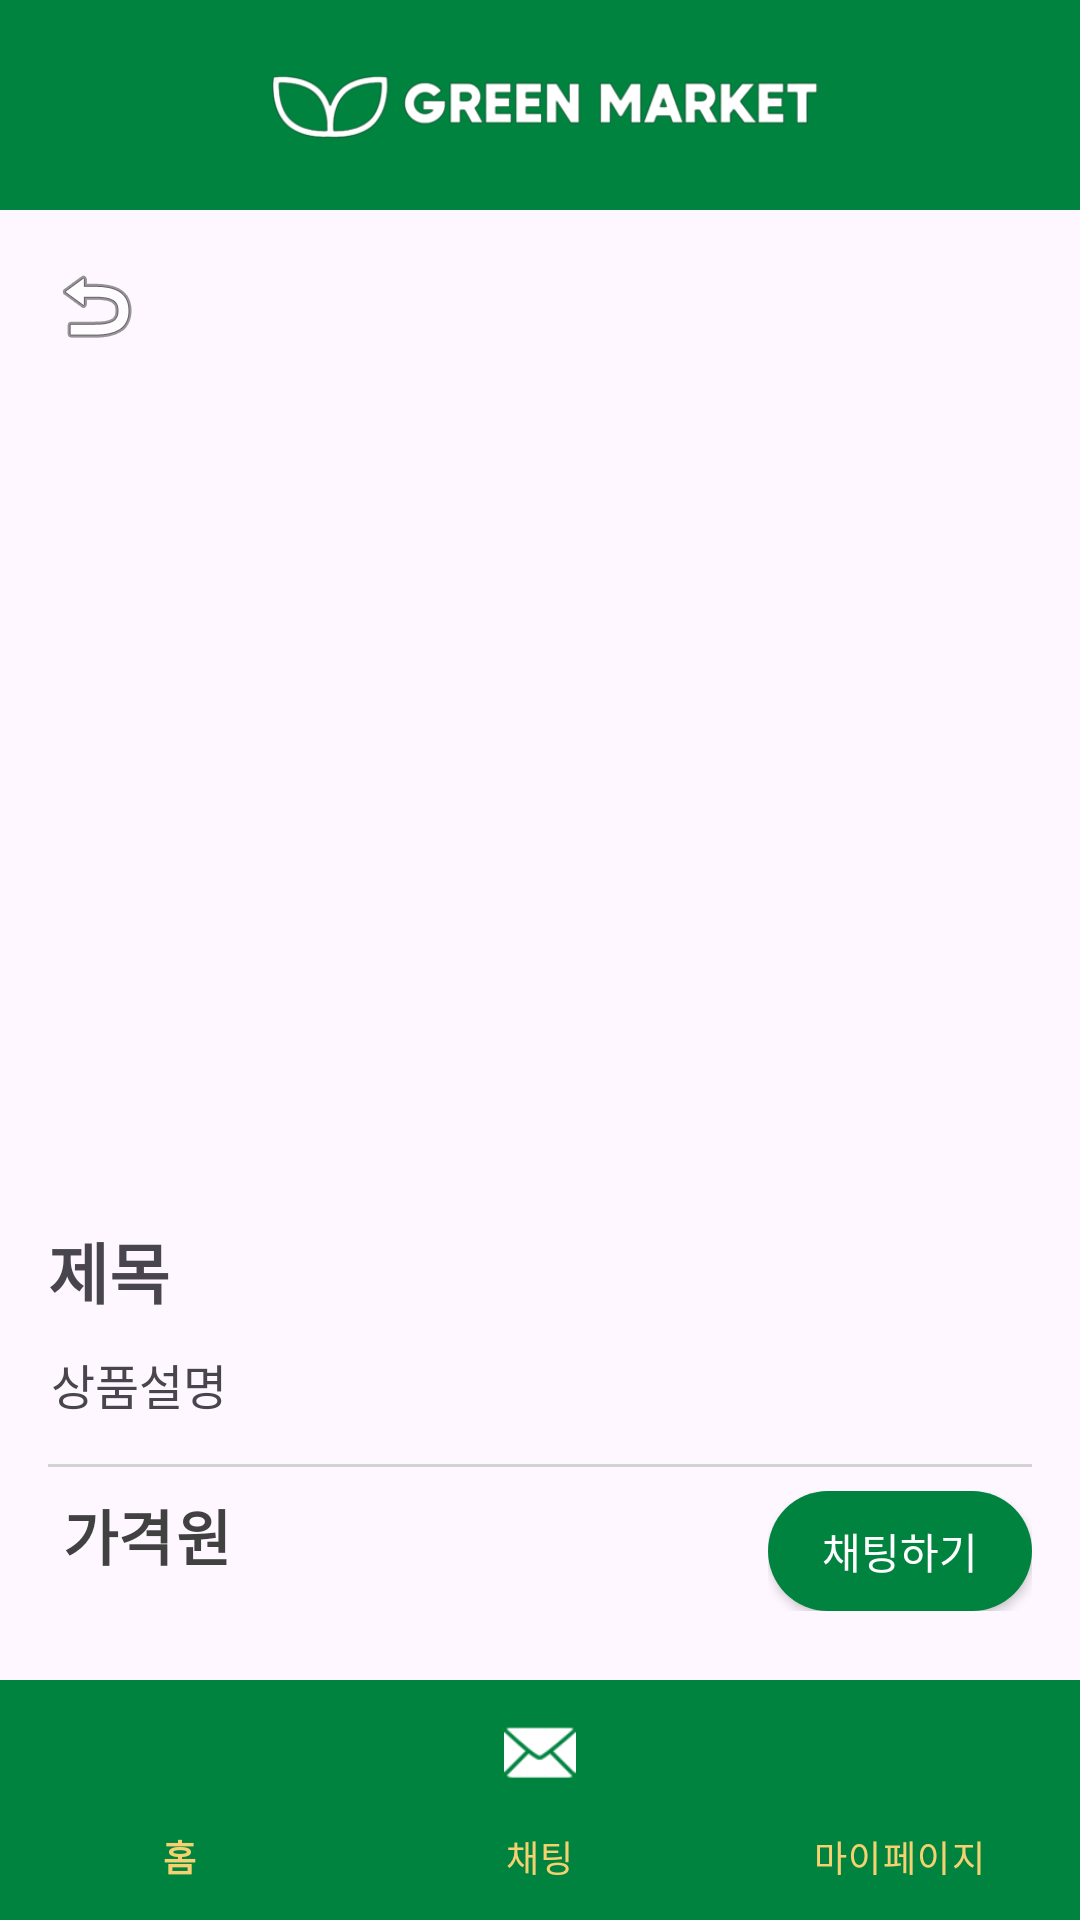

Named icons in this screenshot (1080px×1920px) and their bounding boxes, box(x1, y1, x2, y2):
revert: box(63, 275, 132, 338)
